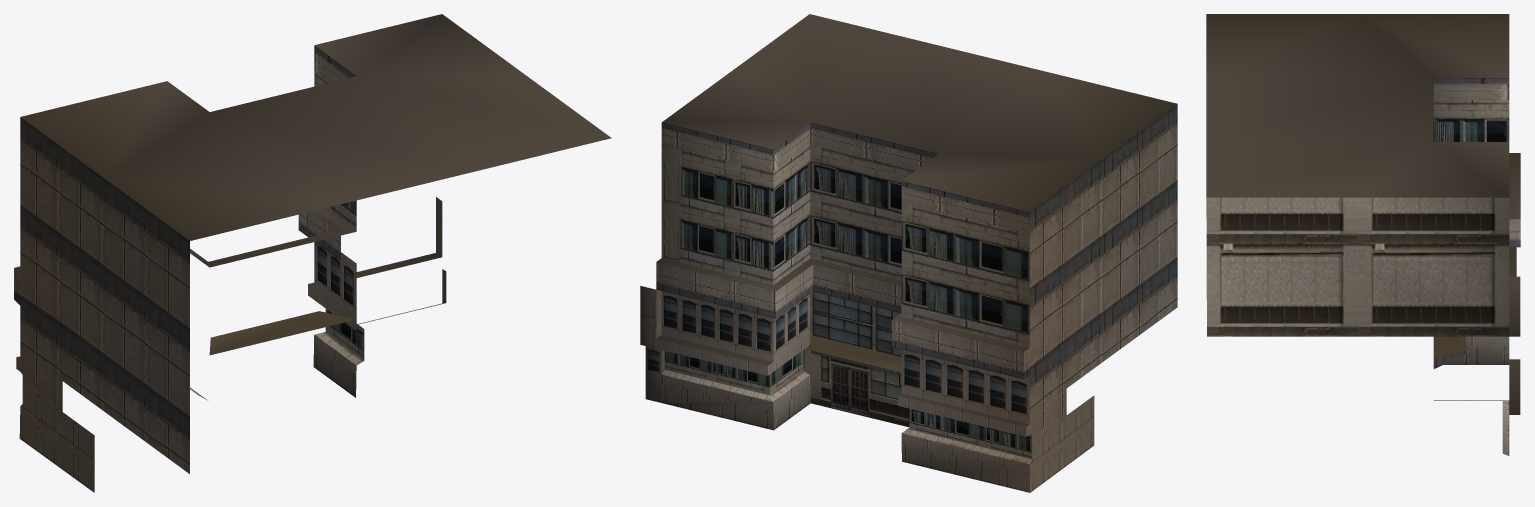
Rendered from M10_Z1_Shop2.glb.
3 renders of one model, left to right at view 1: azimuth 30°, elevation 25°; view 2: azimuth 150°, elevation 25°; view 3: azimuth 270°, elevation 25°, orthographic. The views are drawn at different scales.
Parts seen in each view (by area): view 1: M10_Z1_SHOP2; view 2: M10_Z1_SHOP2; view 3: M10_Z1_SHOP2.
Boxes of the visible parts, box(x1,y1,x2,y2) form: M10_Z1_SHOP2: box(14, 14, 611, 492); M10_Z1_SHOP2: box(640, 14, 1177, 492); M10_Z1_SHOP2: box(1206, 14, 1520, 455).
Size of the model in its own units: 24 by 16.74 by 16.6.
7 materials, 7 textured.
